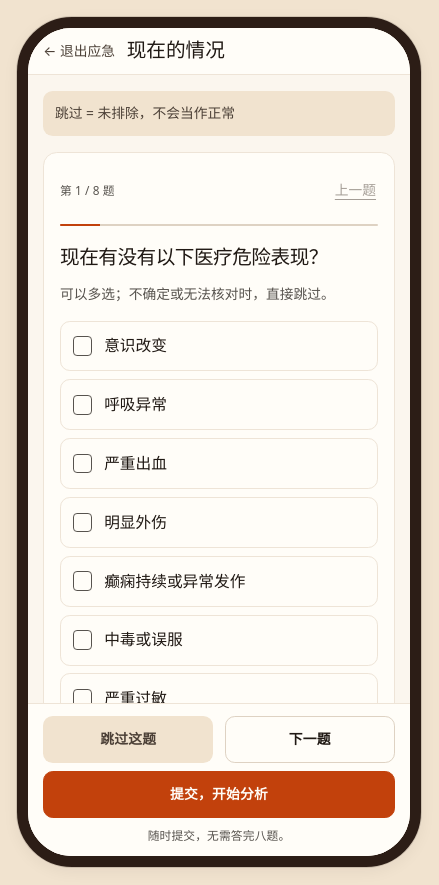
Test: 应急表单页 — 分步流 › 下一题/上一题可来回，作答与跳过标记保留
The image size is (439, 885).
Click the button "下一题".
click(310, 739)  # box [225, 716, 395, 763]
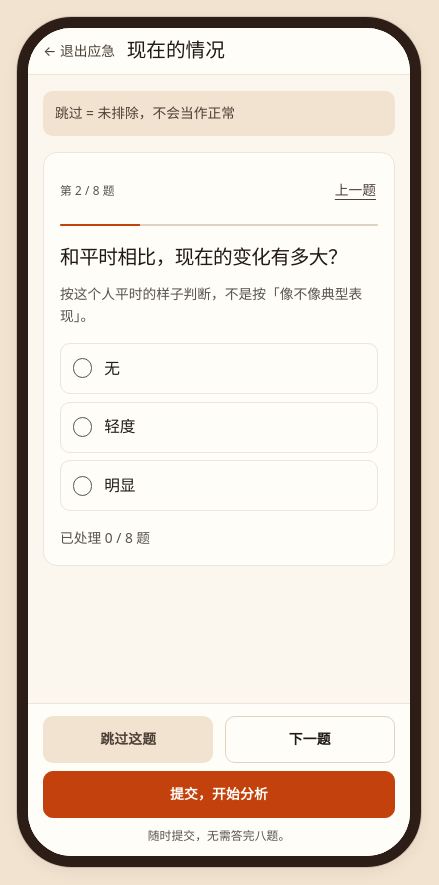
Expected: the text "第 2 / 8 题" is shown, [60, 181, 115, 200]
Expected: the heading "和平时相比，现在的变化有多大？" is shown, [60, 245, 378, 271]
Click the button "跳过这题".
click(128, 739)  # box [43, 716, 213, 763]
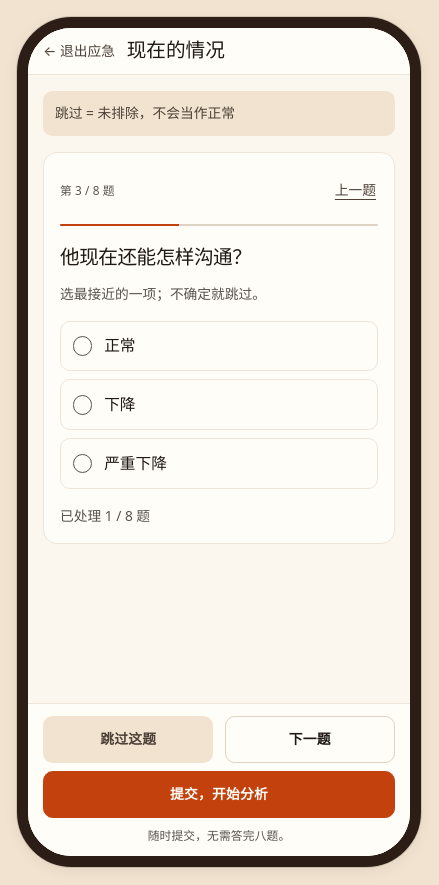
Expected: the text "第 3 / 8 题" is shown, [60, 181, 115, 200]
Click the button "上一题".
click(356, 190)  # box [335, 169, 378, 212]
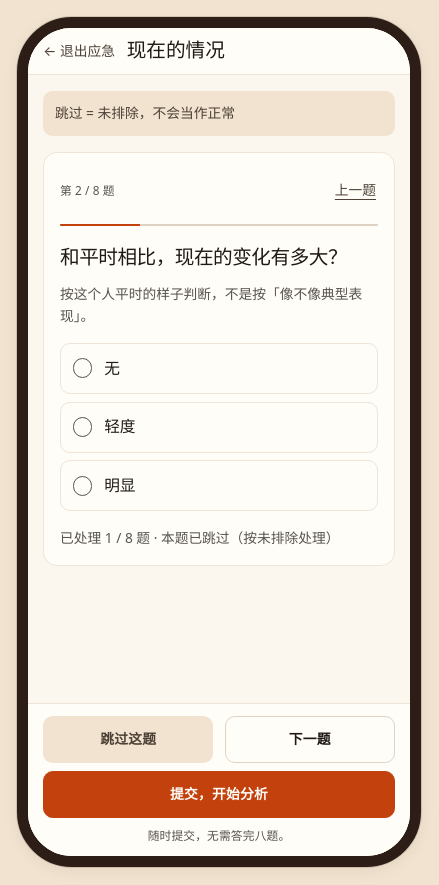
Expected: the text "已处理 1 / 8 题 · 本题已跳过（按未排除处理）" is shown, [60, 527, 378, 549]
Click the button "上一题".
click(356, 190)  # box [335, 169, 378, 212]
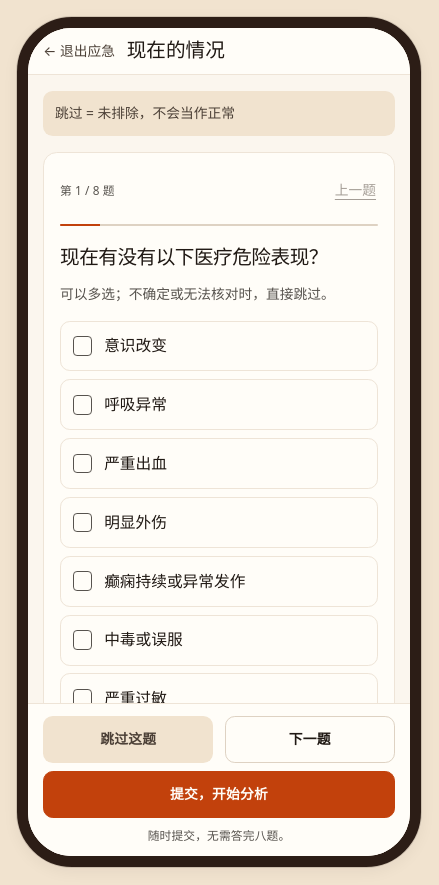
Expected: the text "第 1 / 8 题" is shown, [60, 181, 115, 200]
